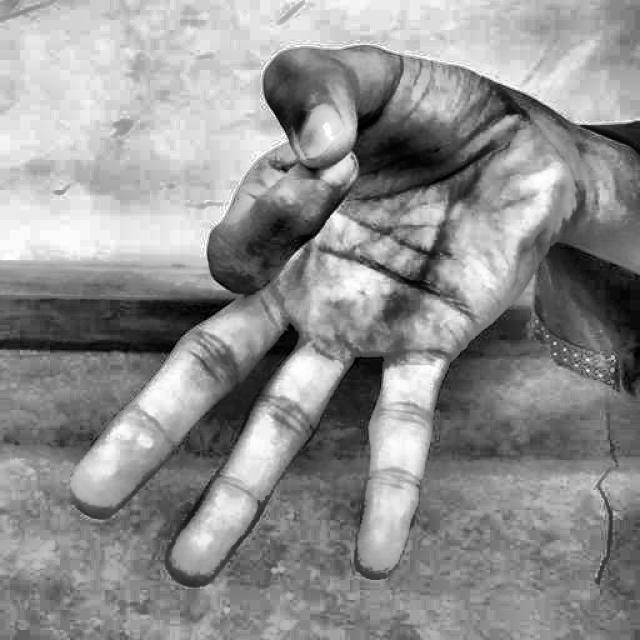Fa: (52, 32, 598, 619)
